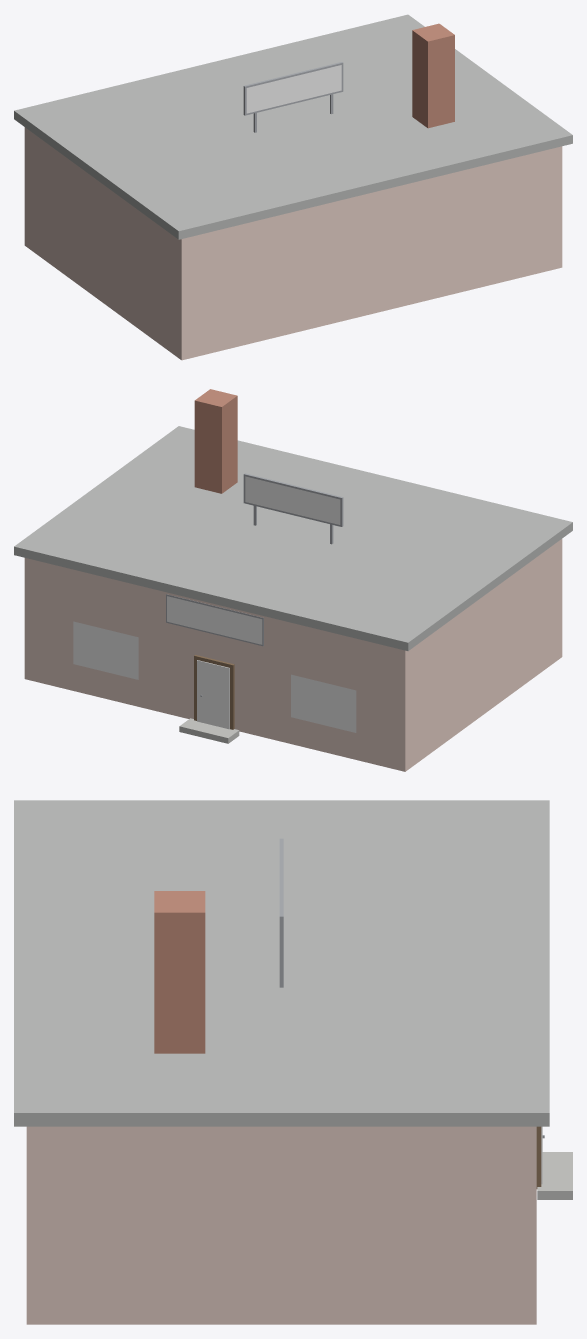
File: bakery.glb
3 renders of one model, top to bottom at view 1: azimuth 30°, elevation 25°; view 2: azimuth 150°, elevation 25°; view 3: azimuth 270°, elevation 25°, orthographic. The views are drawn at different scales.
Visible parts, largest first — view 1: bakery; view 2: bakery; view 3: bakery.
Part boxes in pixels (<box>): bakery: <box>14,14,572,360</box>; bakery: <box>14,389,572,771</box>; bakery: <box>14,800,572,1324</box>.
Size of what is drawn, in the model's own units: 14.5 by 7.9 by 10.96.
